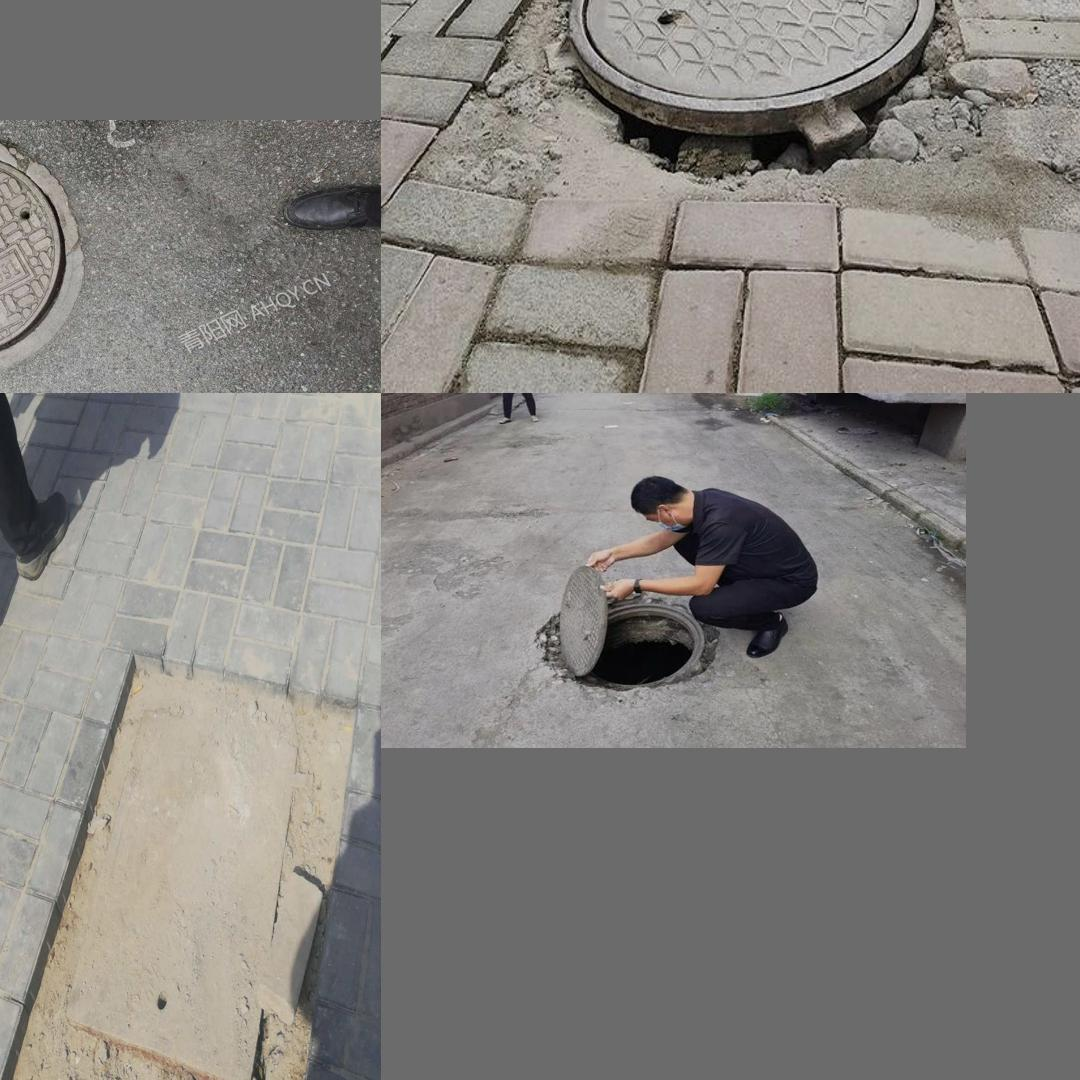circle: (0, 677, 356, 1080), (431, 0, 1002, 240), (520, 575, 753, 703), (0, 131, 103, 382)
